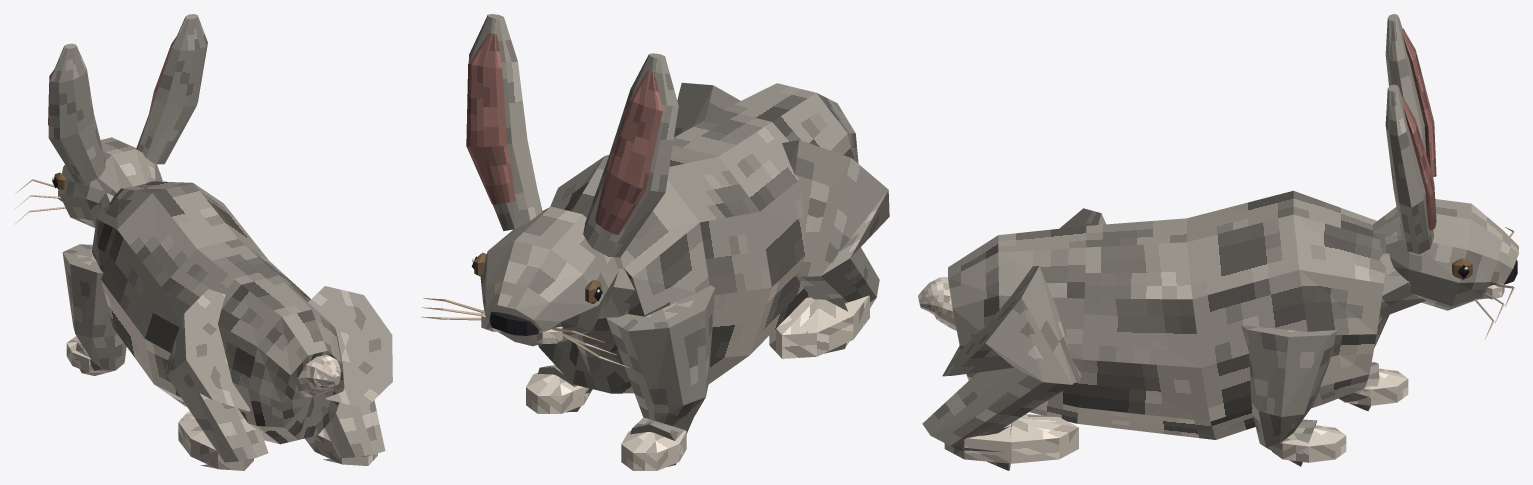
Rendered from mon_rabbit.glb.
The picture shows the model from 3 angles, left to right: view 1: azimuth 30°, elevation 25°; view 2: azimuth 150°, elevation 25°; view 3: azimuth 270°, elevation 25°; orthographic projection. The views are drawn at different scales.
Parts seen in each view (by area): view 1: closed_body; view 2: closed_body; view 3: closed_body.
Boxes of the visible parts, left/top/right/bottom form: closed_body: left=14, top=14, right=392, bottom=470; closed_body: left=421, top=14, right=889, bottom=470; closed_body: left=918, top=14, right=1518, bottom=470.
Bounding box in the file's own units: 0.2333 × 0.4052 × 0.5664.
Materials: 1 (1 with a texture image).
